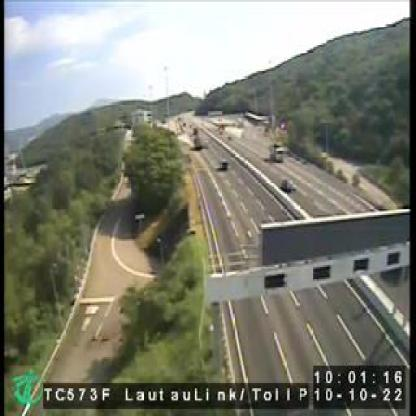Car: (282, 177, 296, 192), (219, 159, 228, 170)
Truck: (270, 145, 286, 162)
